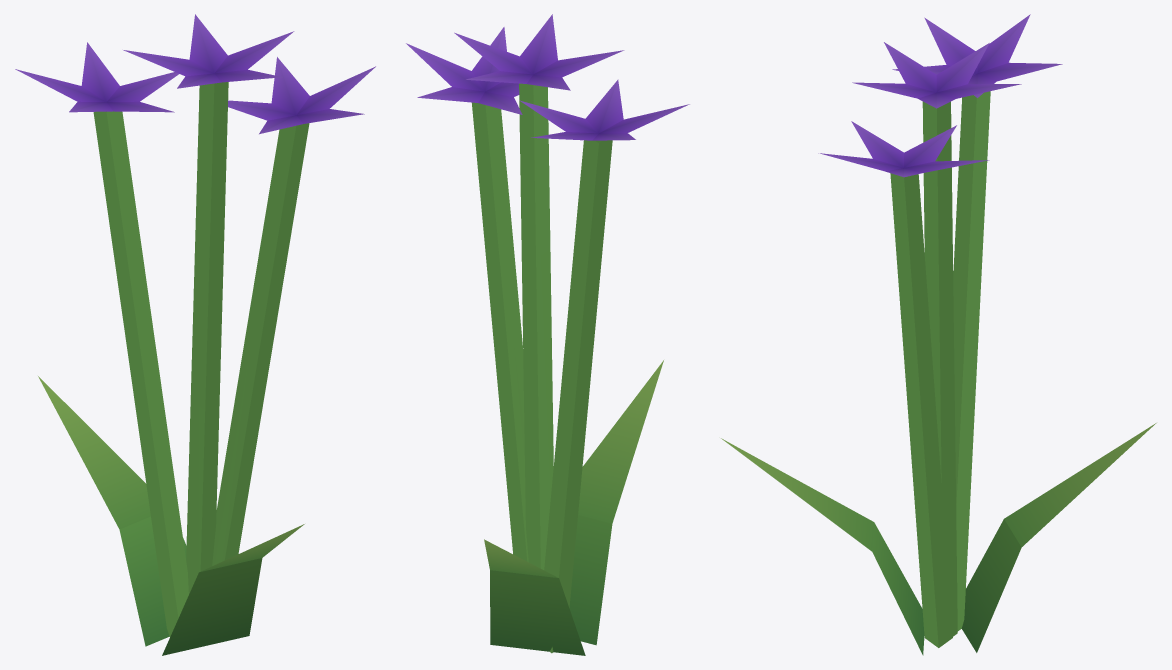
File: env_flowers_violet_low.glb
3 renders of one model, left to right at view 1: azimuth 30°, elevation 25°; view 2: azimuth 150°, elevation 25°; view 3: azimuth 270°, elevation 25°, orthographic. The views are drawn at different scales.
Parts seen in each view (by area): view 1: env_flowers_violet_low; view 2: env_flowers_violet_low; view 3: env_flowers_violet_low.
Part boxes in pixels (bbox=[...]): env_flowers_violet_low: bbox=[15, 14, 375, 655]; env_flowers_violet_low: bbox=[406, 14, 689, 655]; env_flowers_violet_low: bbox=[721, 14, 1156, 655].
Bounding box in the file's own units: 0.4108 × 0.774 × 0.5371.
